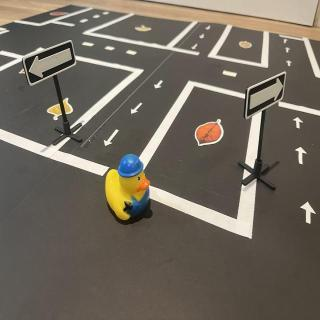duck_specialty: (106, 155, 151, 225)
road_oneway: (300, 197, 318, 230), (102, 127, 124, 149), (130, 100, 146, 119), (296, 144, 308, 168), (293, 114, 305, 133), (154, 79, 167, 93), (287, 58, 295, 70), (200, 33, 208, 42), (191, 43, 199, 51), (206, 25, 214, 32), (286, 47, 292, 55), (283, 39, 289, 45)
sign_oneway_left: (24, 39, 79, 90)
sign_oneway_right: (246, 71, 286, 122)
